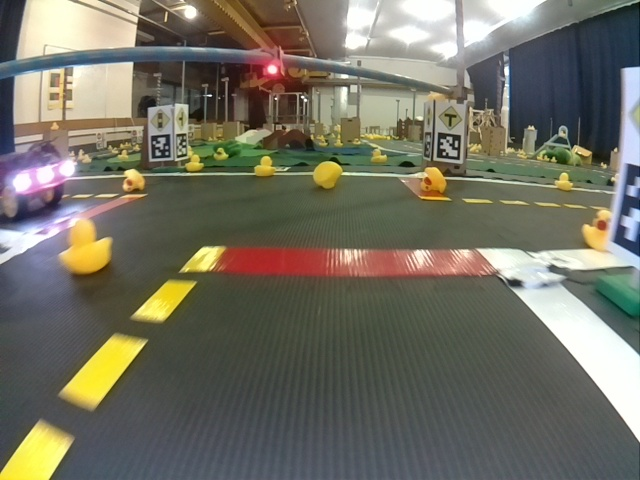Duckie: (64, 221, 112, 274), (583, 211, 613, 247), (314, 162, 343, 188), (421, 168, 445, 194), (123, 170, 144, 191), (257, 156, 274, 174), (189, 155, 204, 170), (371, 149, 387, 163), (558, 173, 571, 190), (214, 149, 227, 159)
Duckiebot: (1, 139, 75, 219)
Intersection sign: (437, 104, 465, 131), (174, 106, 188, 131)
QR code: (177, 133, 188, 159)
Signal sign: (149, 109, 172, 132)
Traffic light: (263, 46, 281, 78)
